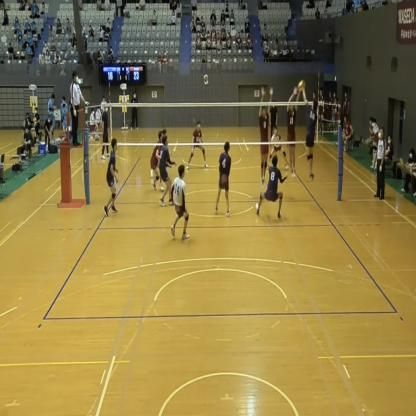spike: (296, 78, 318, 184)
